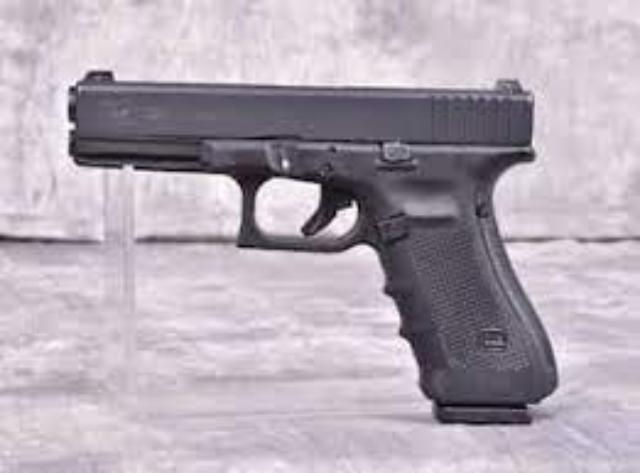handgun: (59, 65, 564, 432)
